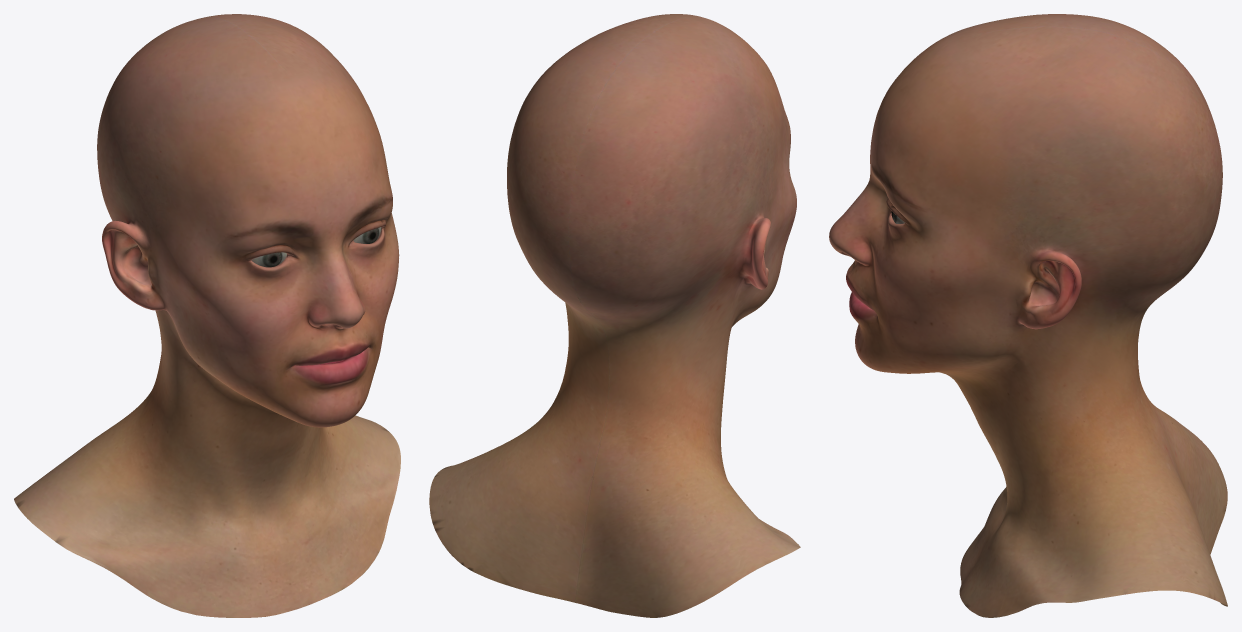
Rendered from 真人头像_女_带材质头像_opt.glb.
3 views of the same model, side by side, from view 1: azimuth 30°, elevation 25°; view 2: azimuth 150°, elevation 25°; view 3: azimuth 270°, elevation 25° (orthographic). The views are drawn at different scales.
Visible parts, largest first — view 1: ScanStoreFreeHead; view 2: ScanStoreFreeHead; view 3: ScanStoreFreeHead.
Boxes of the visible parts, box(x1,y1,x2,y2) form: ScanStoreFreeHead: box(14, 14, 400, 617); ScanStoreFreeHead: box(429, 14, 800, 617); ScanStoreFreeHead: box(829, 14, 1227, 617).
Size of the model in its own units: 0.2296 by 0.3334 by 0.2155.
Materials: 1 (1 with a texture image).
